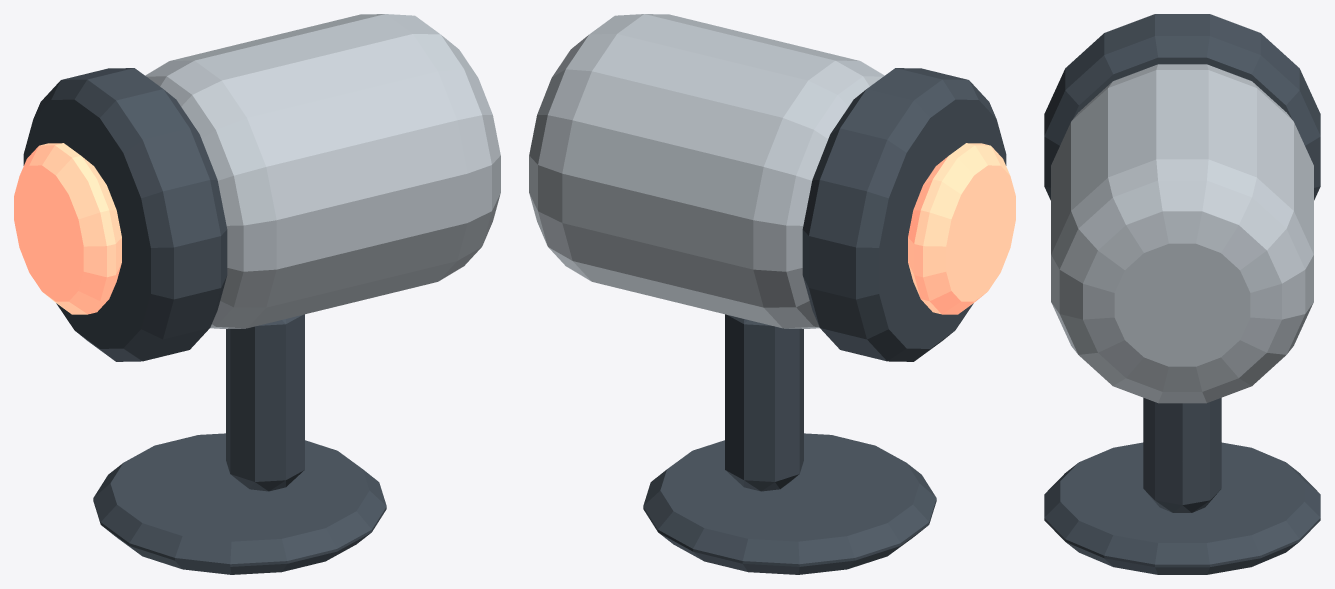
Rendered from Laser_Left.gltf.
3 renders of one model, left to right at view 1: azimuth 30°, elevation 25°; view 2: azimuth 150°, elevation 25°; view 3: azimuth 270°, elevation 25°, orthographic. The views are drawn at different scales.
Parts seen in each view (by area): view 1: Laser_Left_baked; view 2: Laser_Left_baked; view 3: Laser_Left_baked.
Boxes of the visible parts, x1,y1,x2,y2 form: Laser_Left_baked: [14, 14, 500, 574]; Laser_Left_baked: [529, 14, 1015, 574]; Laser_Left_baked: [1044, 14, 1320, 574].
Bounding box in the file's own units: 0.64 × 0.6962 × 0.3923.
